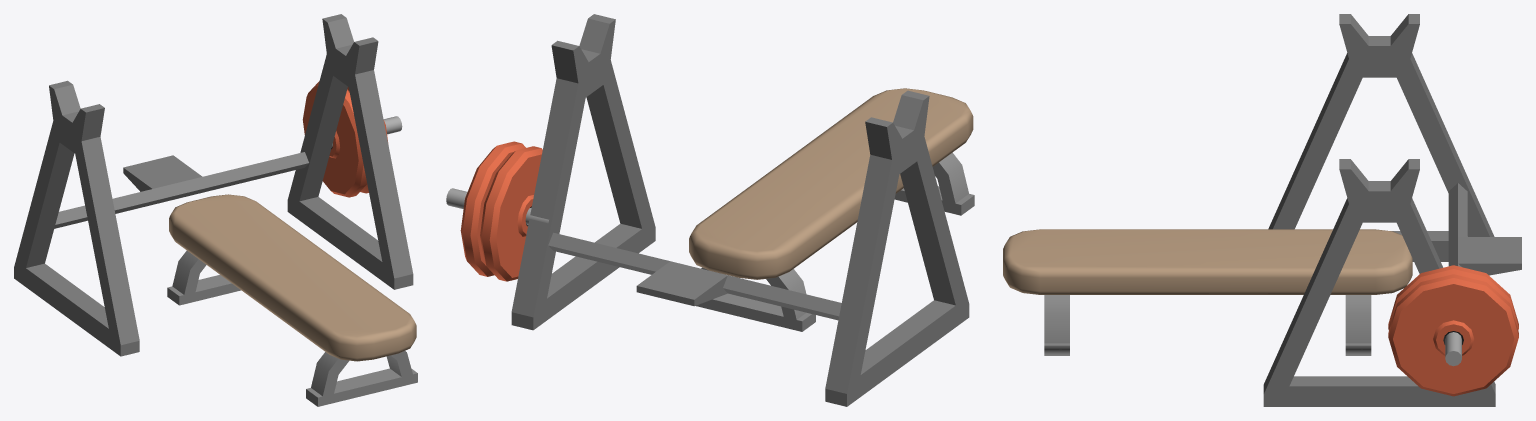
Rendered from benchPress.fbx.
The picture shows the model from 3 angles, left to right: view 1: azimuth 30°, elevation 25°; view 2: azimuth 150°, elevation 25°; view 3: azimuth 270°, elevation 25°; orthographic projection. The views are drawn at different scales.
Parts seen in each view (by area): view 1: benchPress; view 2: benchPress; view 3: benchPress.
Part boxes in pixels (<box>): benchPress: <box>14,14,417,406</box>; benchPress: <box>446,14,974,406</box>; benchPress: <box>1003,14,1521,406</box>.
Size of the model in its own units: 184 by 105 by 208.
